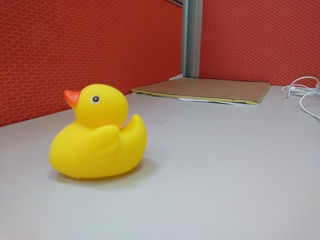duck: (46, 81, 151, 184)
